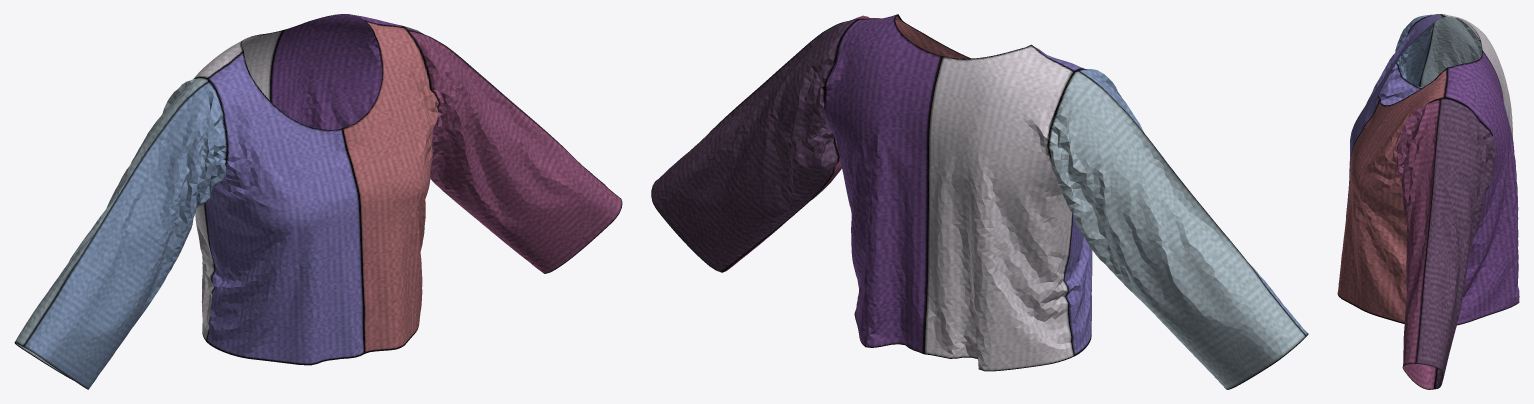
File: valid_garment_upper_sim.obj
3 views of the same model, side by side, from view 1: azimuth 30°, elevation 25°; view 2: azimuth 150°, elevation 25°; view 3: azimuth 270°, elevation 25° (orthographic). The views are drawn at different scales.
Bounding box in the file's own units: 101 × 46.72 × 30.66.
Materials: 1 (1 with a texture image).
